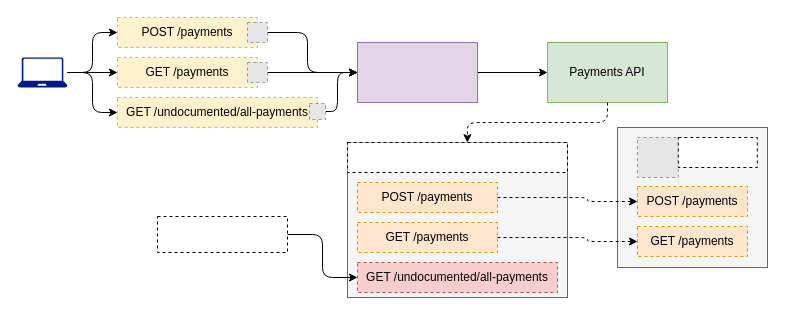
Some shapes in this 785 by 315 pixel diagram are drawn without their labels. Grey dashed boxes stand in for pictures. The centre of each missing label's shape, as x and y in pixels:
"API gateway" belongs at point 417,72.
"Documented" belongs at point 717,152.
"Implemennted" belongs at point 457,157.
"Shadow endpoint" belongs at point 222,234.
